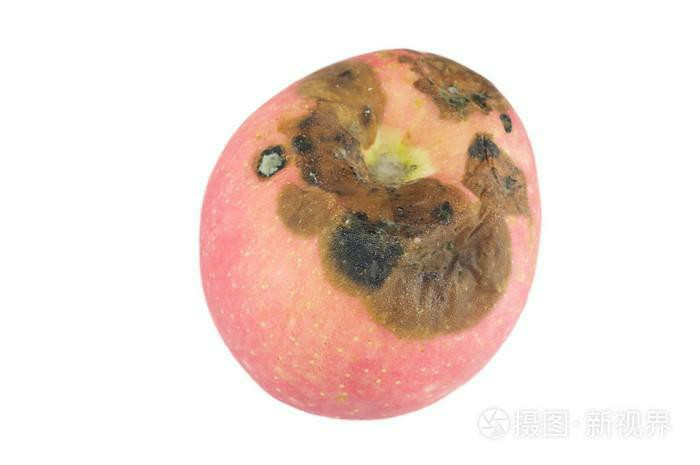rotten_apple: (198, 49, 542, 413)
